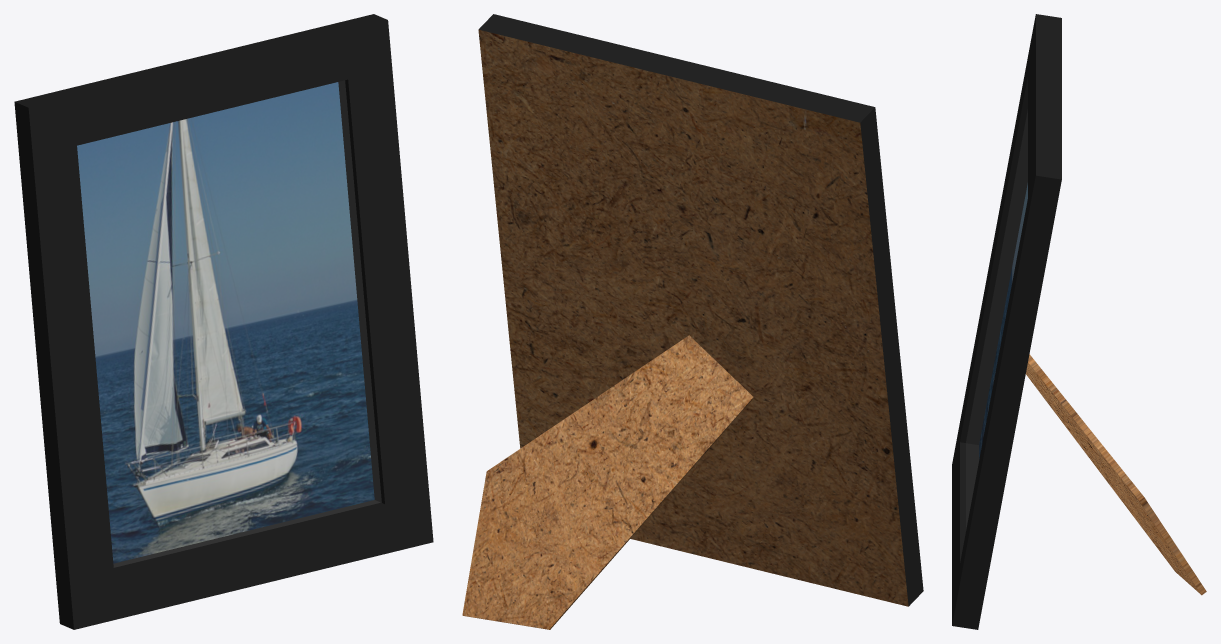
The model's file is Photo 1.FBX.
3 views of the same model, side by side, from view 1: azimuth 30°, elevation 25°; view 2: azimuth 150°, elevation 25°; view 3: azimuth 270°, elevation 25° (orthographic). The views are drawn at different scales.
Parts seen in each view (by area): view 1: Photo 1; view 2: Photo 1; view 3: Photo 1.
Boxes of the visible parts, box(x1,y1,x2,y2) form: Photo 1: box(14, 14, 433, 629); Photo 1: box(462, 14, 923, 629); Photo 1: box(952, 14, 1206, 629).
Size of the model in its own units: 21.35 by 27.99 by 14.22.
Materials: 2 (1 with a texture image).
